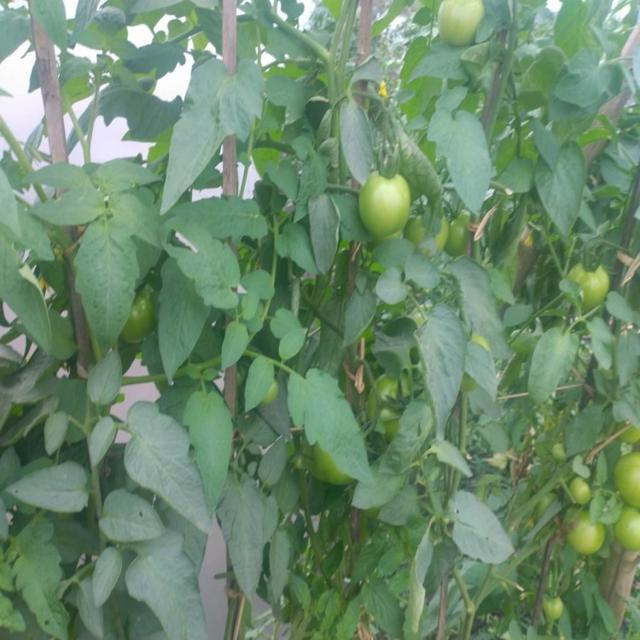tomato: (360, 168, 408, 243), (371, 370, 416, 433), (300, 444, 355, 492), (435, 1, 487, 44), (567, 260, 613, 307), (608, 446, 640, 512), (119, 287, 160, 338), (567, 518, 607, 555), (413, 211, 442, 254), (537, 595, 572, 625), (618, 511, 640, 558), (571, 479, 597, 511), (448, 212, 469, 248), (263, 379, 284, 413)
